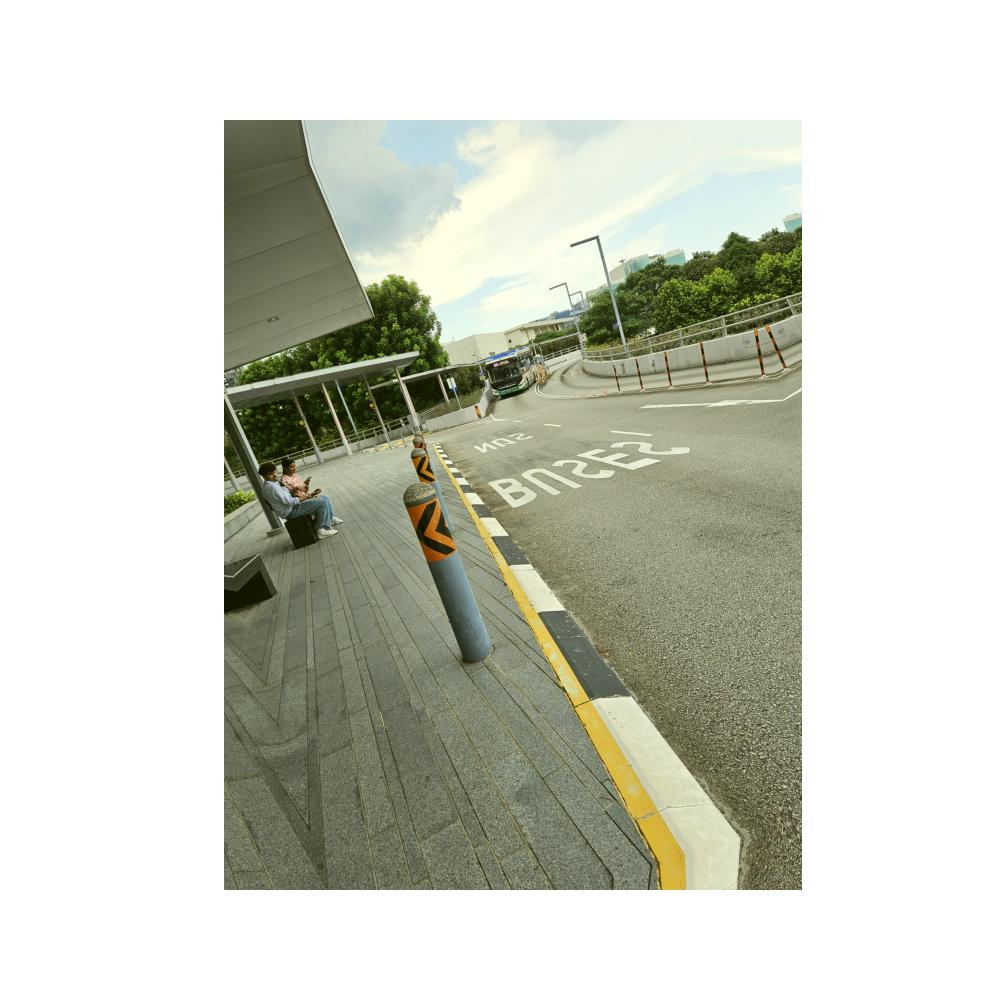bus: (484, 348, 549, 396)
